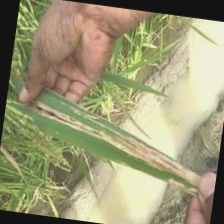Leaf_Blast: (29, 111, 181, 156)
